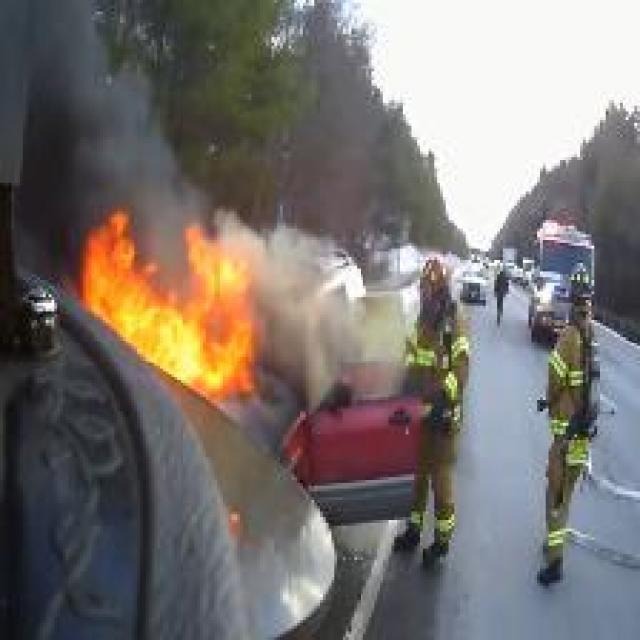Fire: (78, 208, 264, 402)
